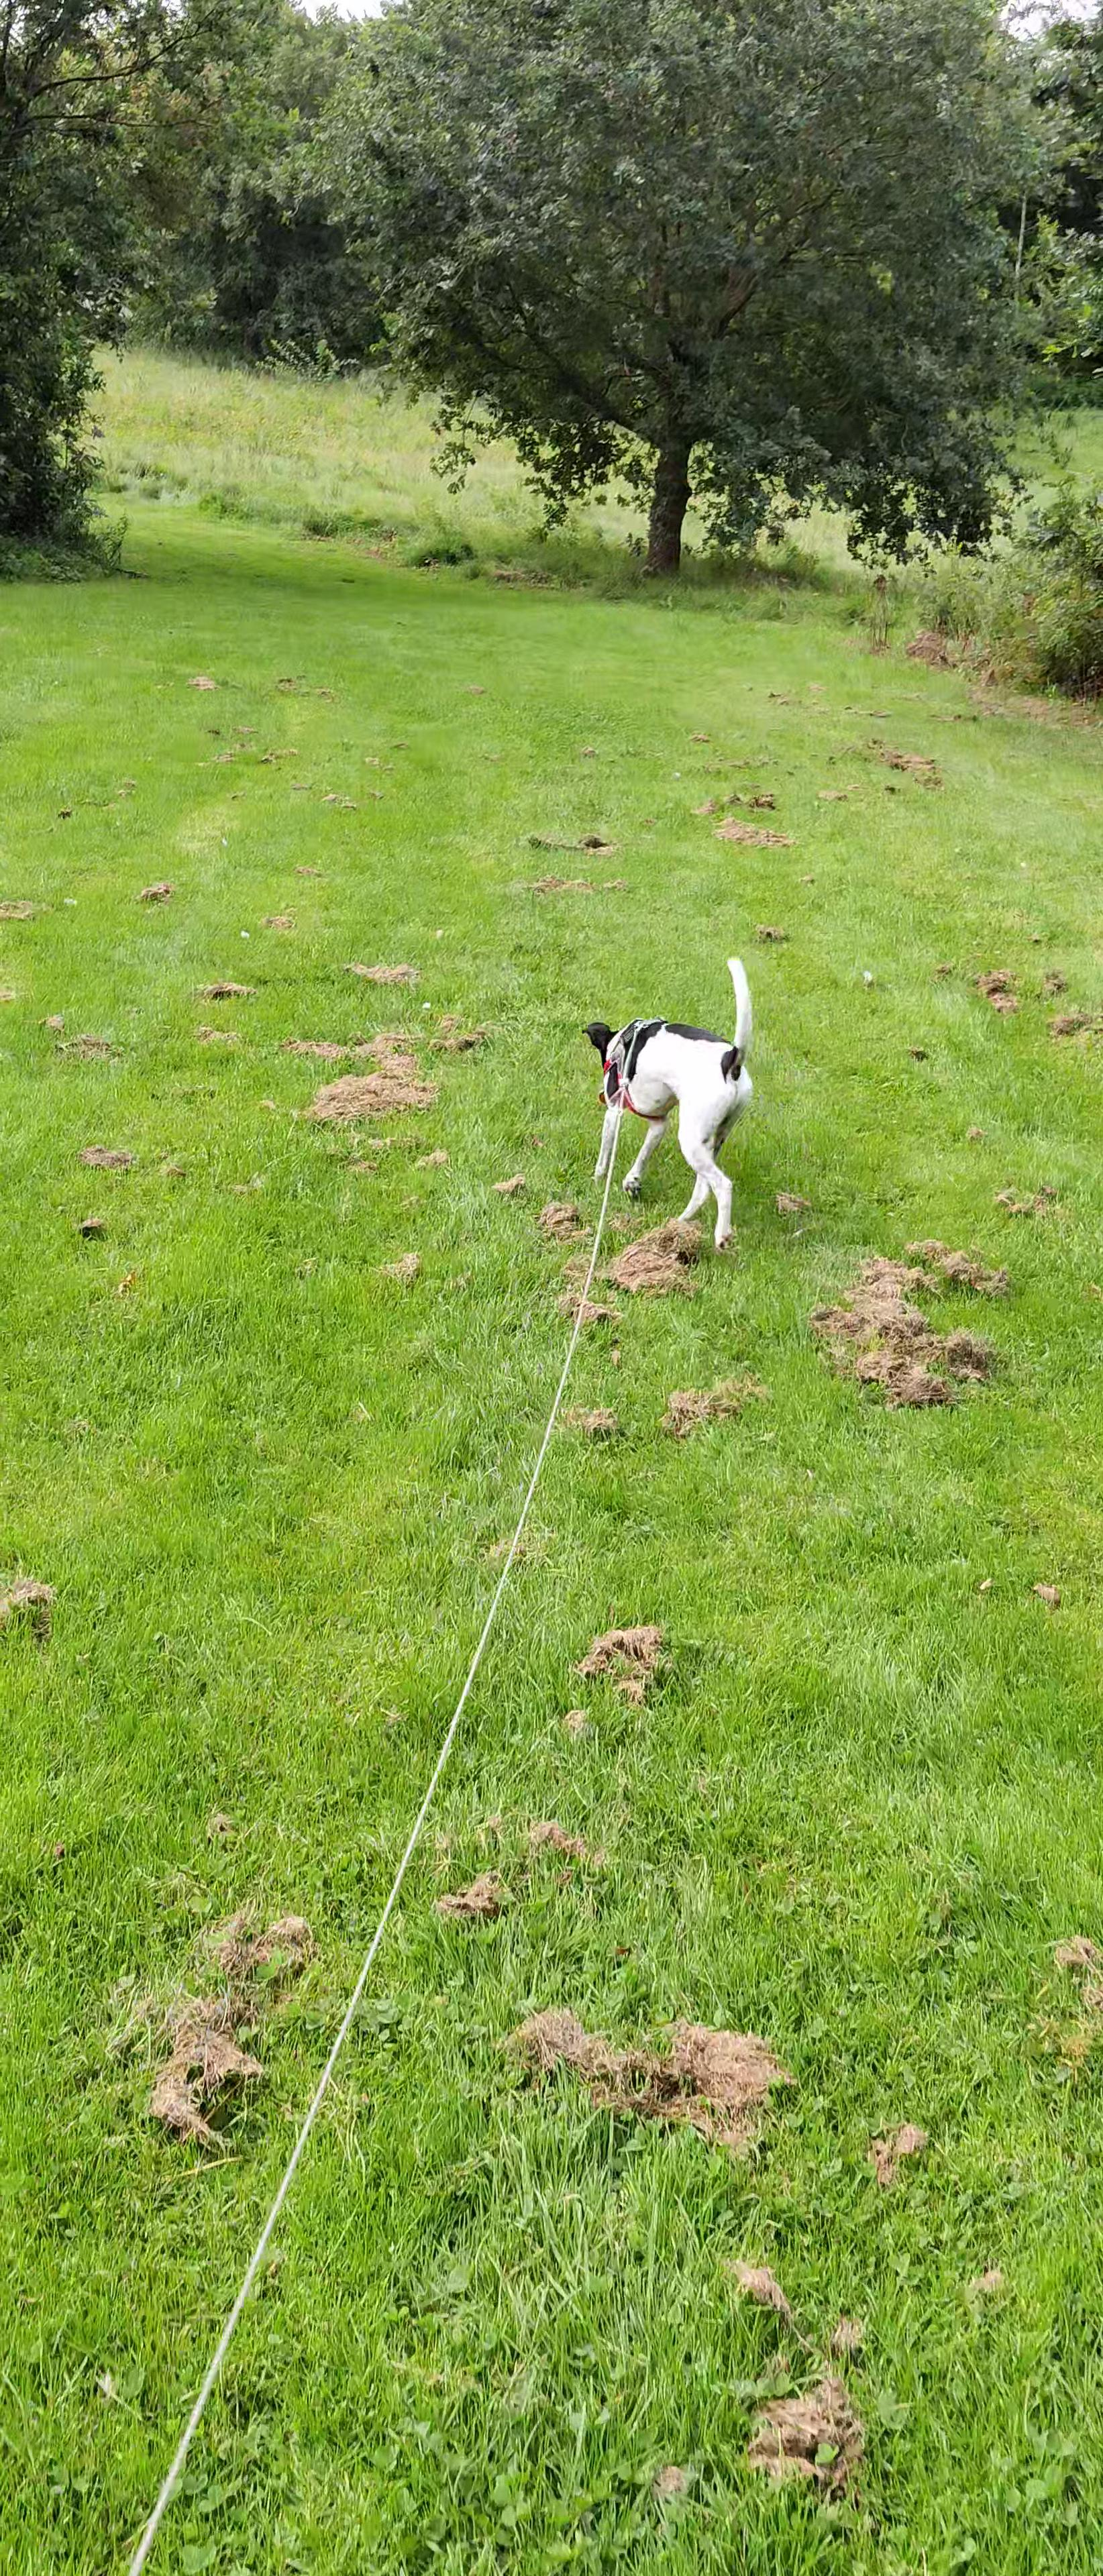Dog: (577, 951, 774, 1263)
